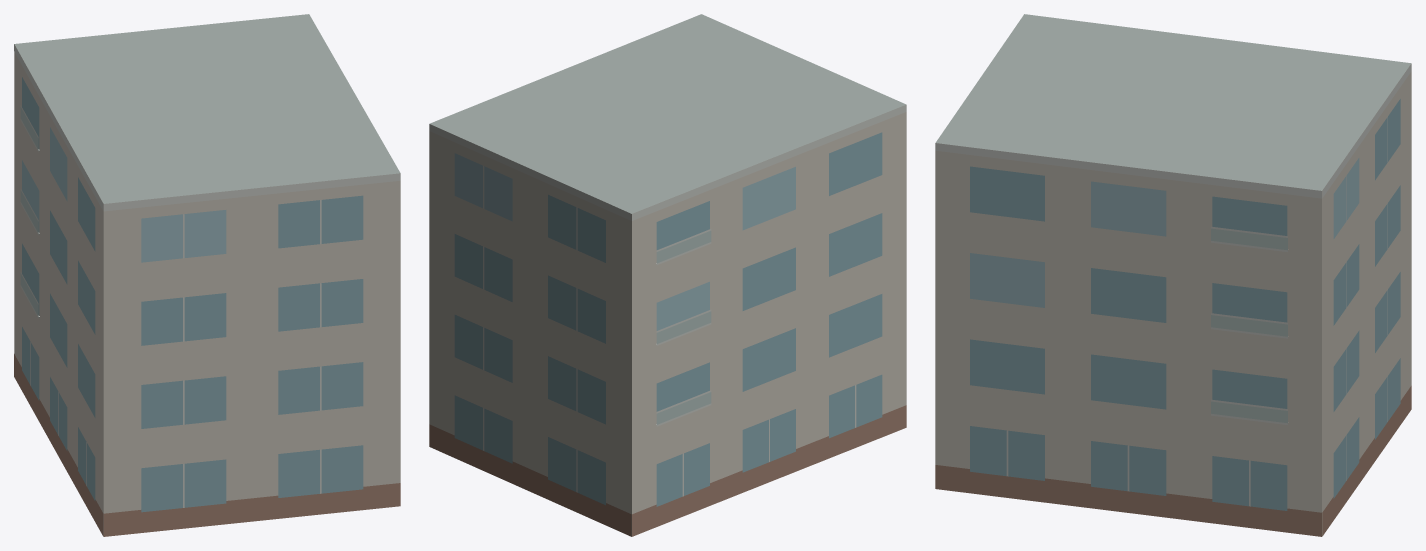
File: survey-upis-32875838.glb
The picture shows the model from 3 angles, left to right: view 1: azimuth 30°, elevation 25°; view 2: azimuth 150°, elevation 25°; view 3: azimuth 270°, elevation 25°; orthographic projection. The views are drawn at different scales.
Visible parts, largest first — view 1: survey-upis-32875838.tmp; view 2: survey-upis-32875838.tmp; view 3: survey-upis-32875838.tmp.
Part boxes in pixels (<box>): survey-upis-32875838.tmp: <box>14,14,400,536</box>; survey-upis-32875838.tmp: <box>429,14,906,536</box>; survey-upis-32875838.tmp: <box>935,14,1411,536</box>.
Bounding box in the file's own units: 12.02 × 10.95 × 13.67.
